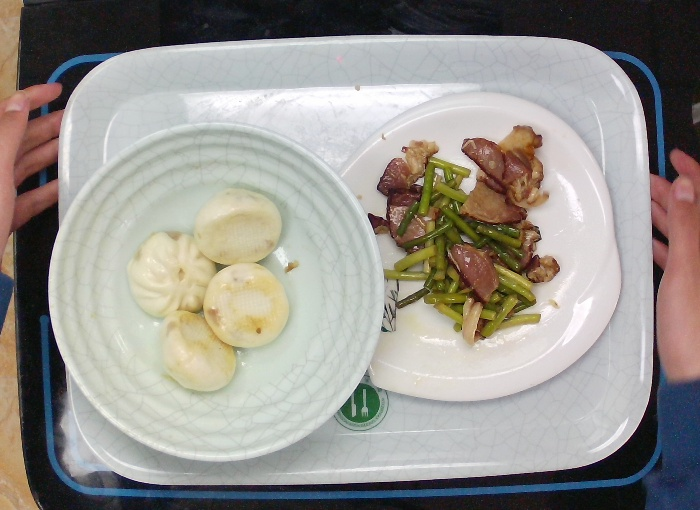JYsf-Da_Tang_Wan: (45, 120, 386, 464)
JYsf-Mian_Pan: (336, 89, 623, 404)
